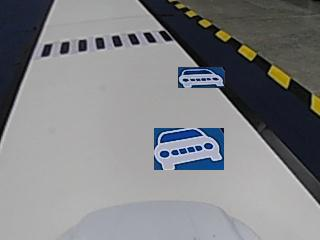crosswalk: (39, 29, 174, 58)
